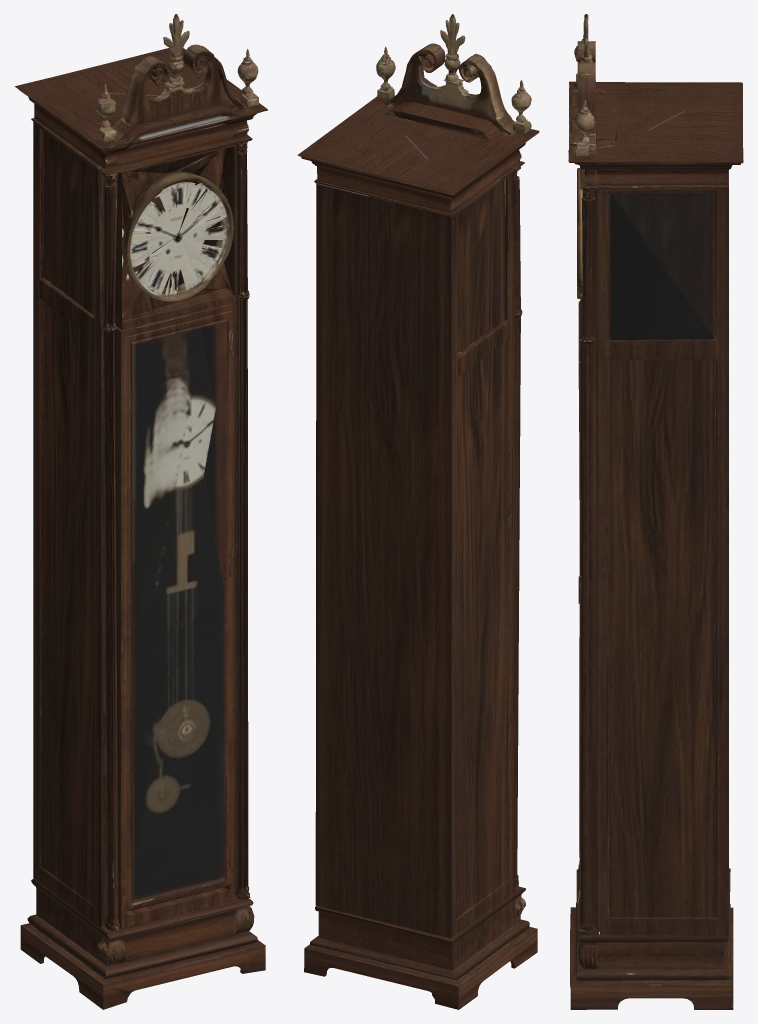
Rendered from grandfather_clock.glb.
The picture shows the model from 3 angles, left to right: view 1: azimuth 30°, elevation 25°; view 2: azimuth 150°, elevation 25°; view 3: azimuth 270°, elevation 25°; orthographic projection. The views are drawn at different scales.
Size of the model in its own units: 0.3763 by 2.1 by 0.3484.
1 material, 1 textured.
